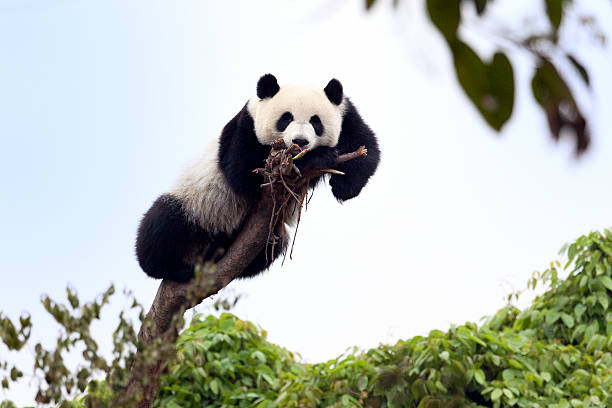panda: (247, 67, 357, 160)
